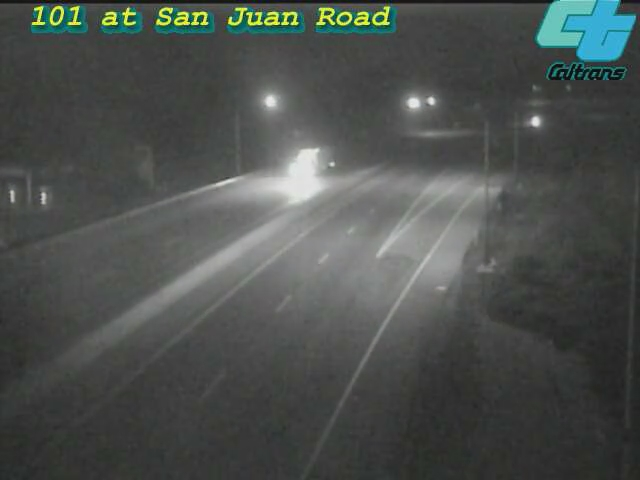vehicle: (270, 126, 350, 206), (512, 96, 562, 146)
